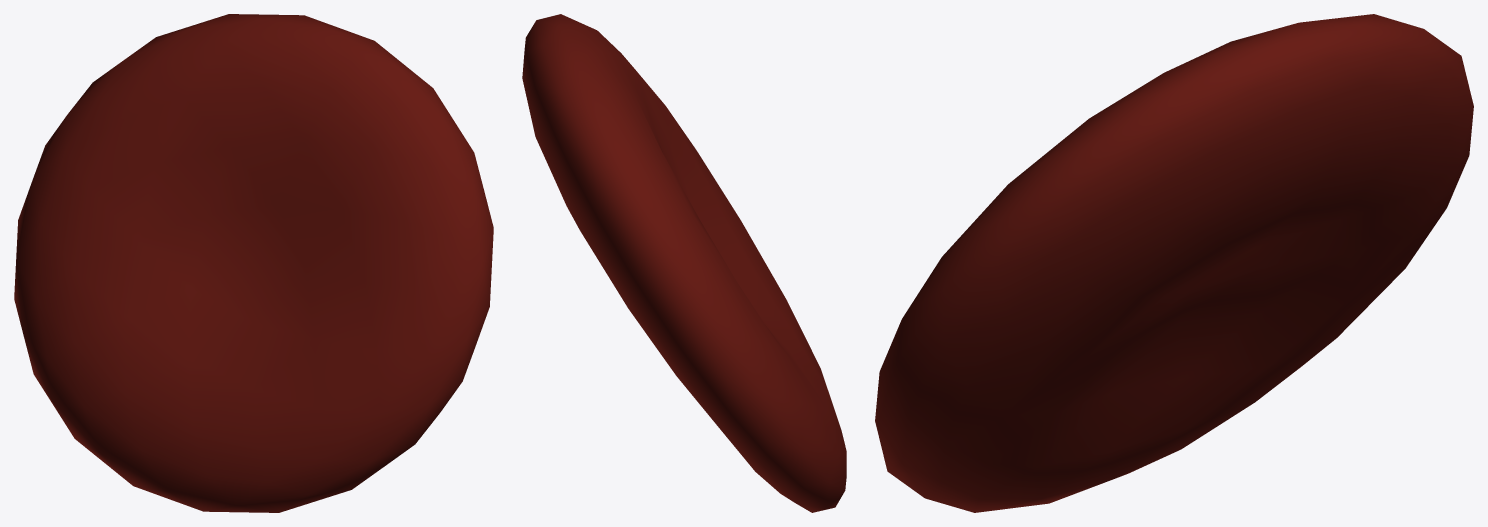
The model's file is RedBloodCell.fbx.
The picture shows the model from 3 angles, left to right: view 1: azimuth 30°, elevation 25°; view 2: azimuth 150°, elevation 25°; view 3: azimuth 270°, elevation 25°; orthographic projection. The views are drawn at different scales.
Parts seen in each view (by area): view 1: Red blood cell; view 2: Red blood cell; view 3: Red blood cell.
Boxes of the visible parts, x1,y1,x2,y2 form: Red blood cell: (14,14,493,512); Red blood cell: (522,14,846,512); Red blood cell: (875,14,1473,512).
Bounding box in the file's own units: 2.18 × 2.42 × 2.47.
